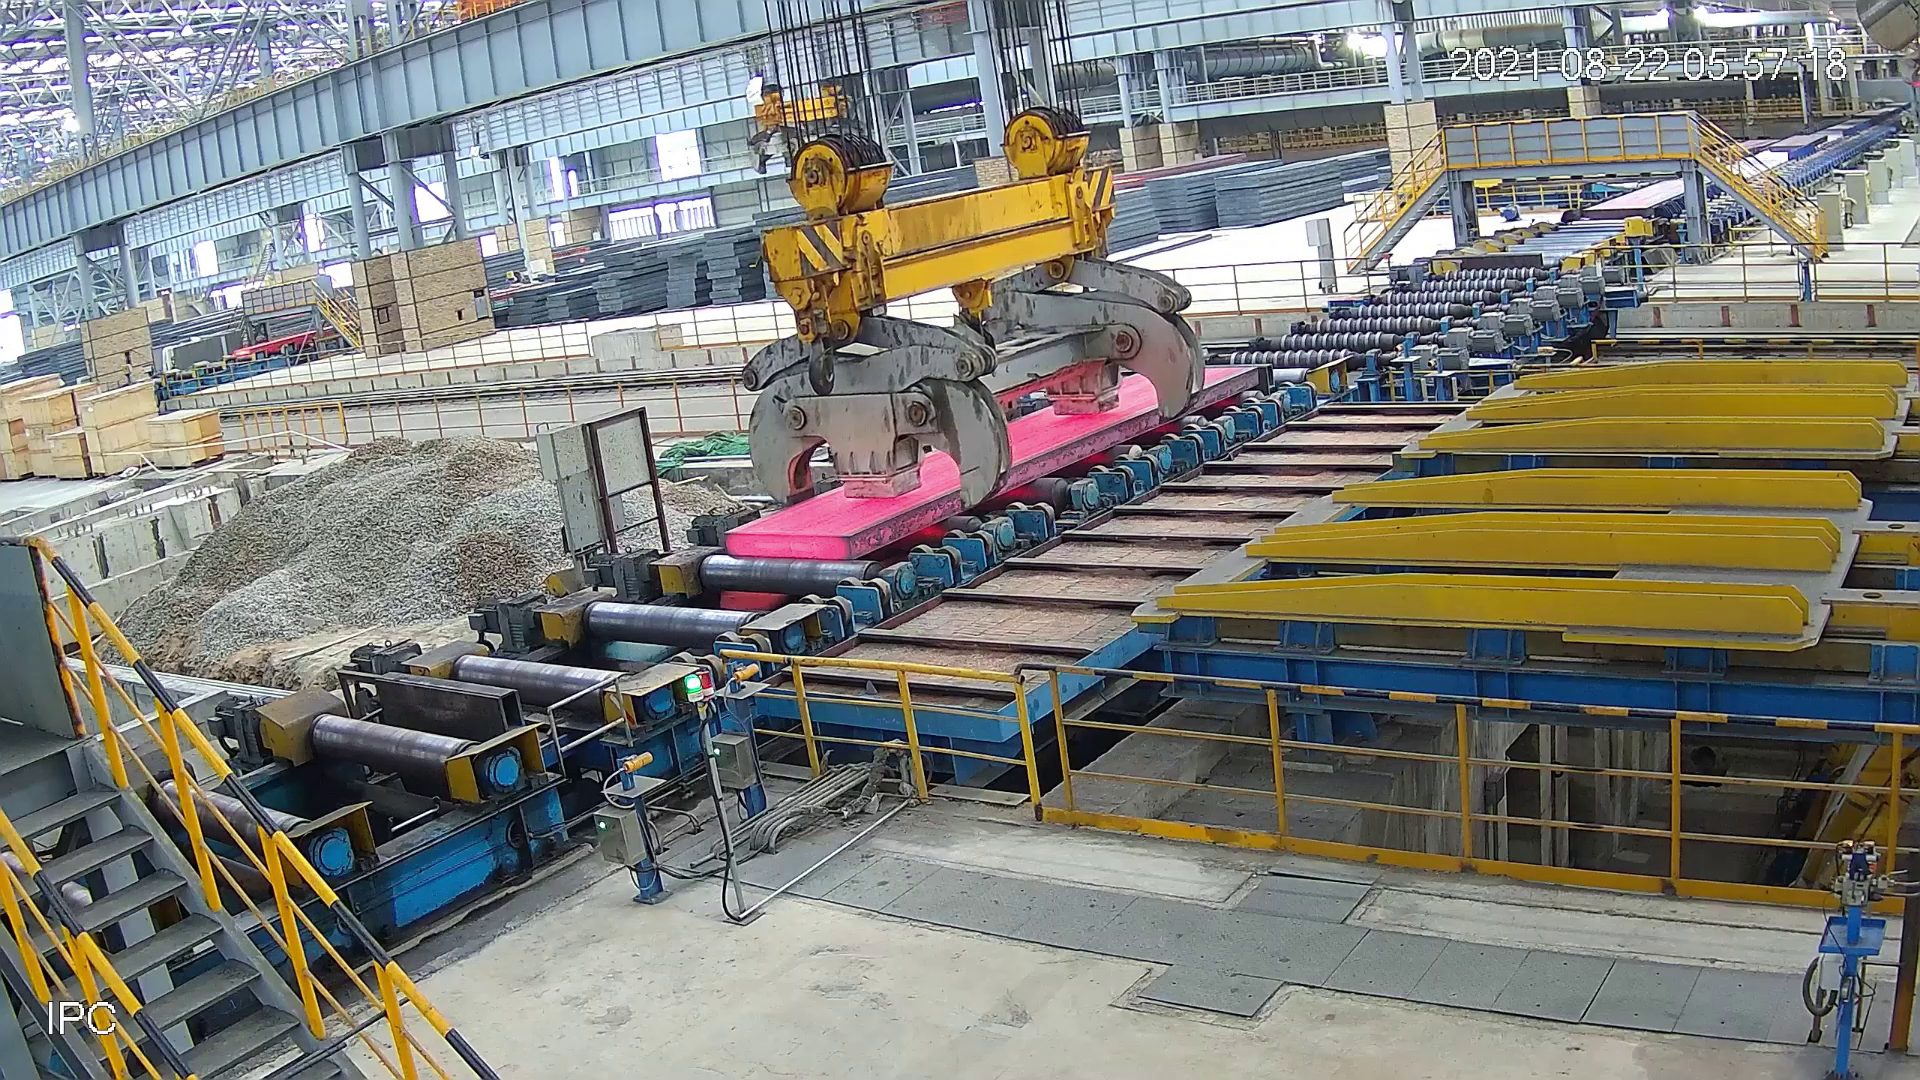craneandslab: (709, 120, 1292, 568)
slab: (1578, 177, 1705, 222)
